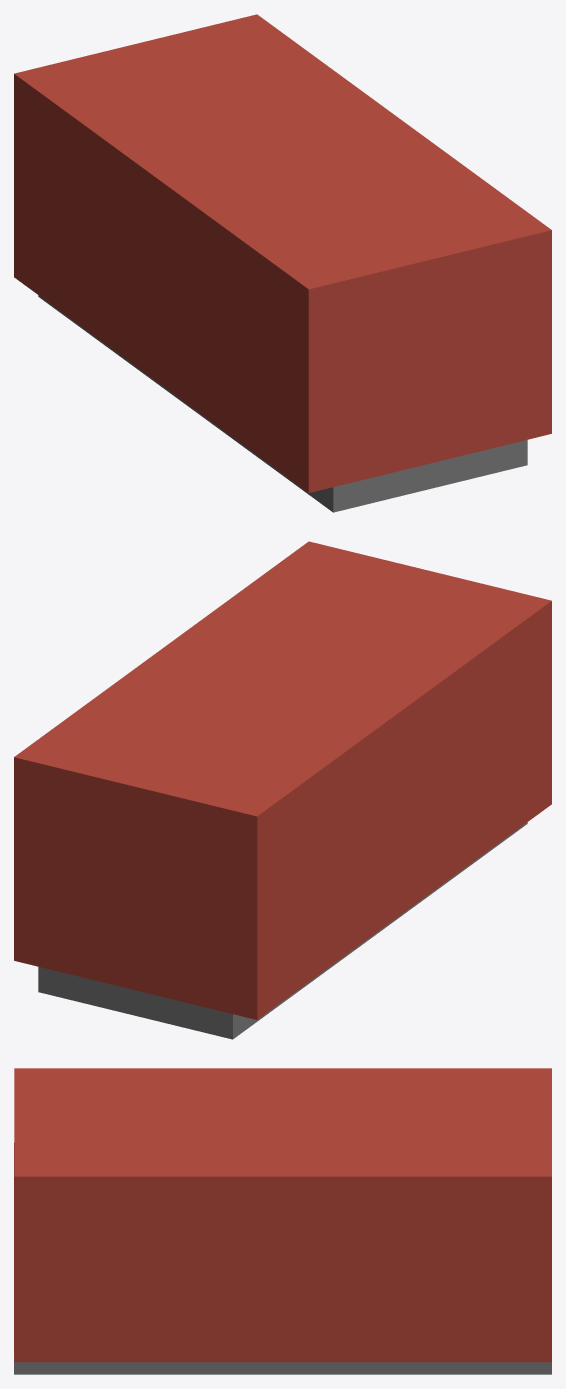
File: brick_0.glb
3 renders of one model, top to bottom at view 1: azimuth 30°, elevation 25°; view 2: azimuth 150°, elevation 25°; view 3: azimuth 270°, elevation 25°, orthographic. The views are drawn at different scales.
Parts seen in each view (by area): view 1: brick_0; view 2: brick_0; view 3: brick_0.
Part boxes in pixels (bbox=[...]): brick_0: bbox=[14, 14, 551, 512]; brick_0: bbox=[14, 541, 551, 1039]; brick_0: bbox=[14, 1068, 551, 1374].
Bounding box in the file's own units: 0.4 × 0.36 × 0.8404.
